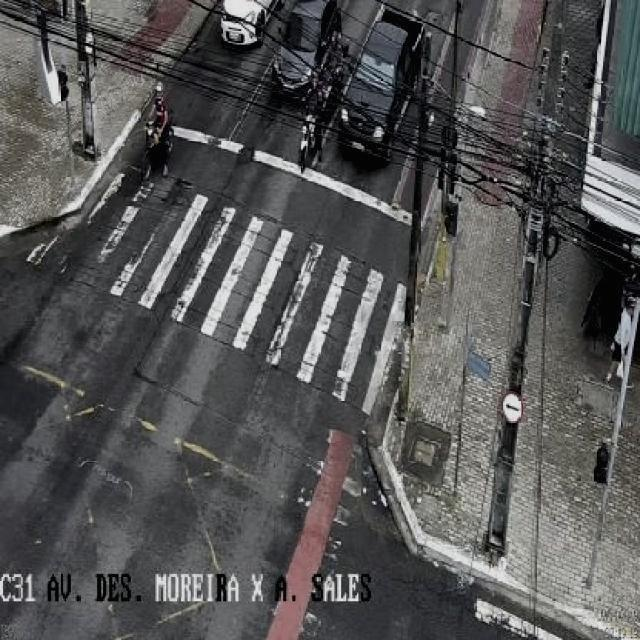Car: (329, 0, 438, 173), (265, 0, 335, 102), (194, 0, 270, 59)
Cycle: (128, 64, 190, 173), (292, 112, 327, 174)
